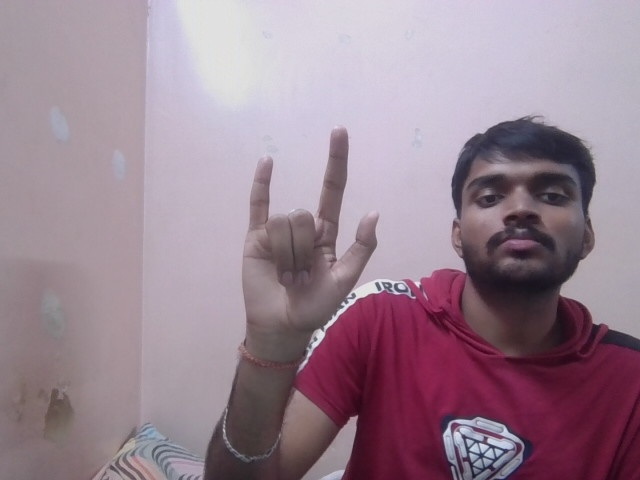I Love You: (238, 118, 380, 325)
